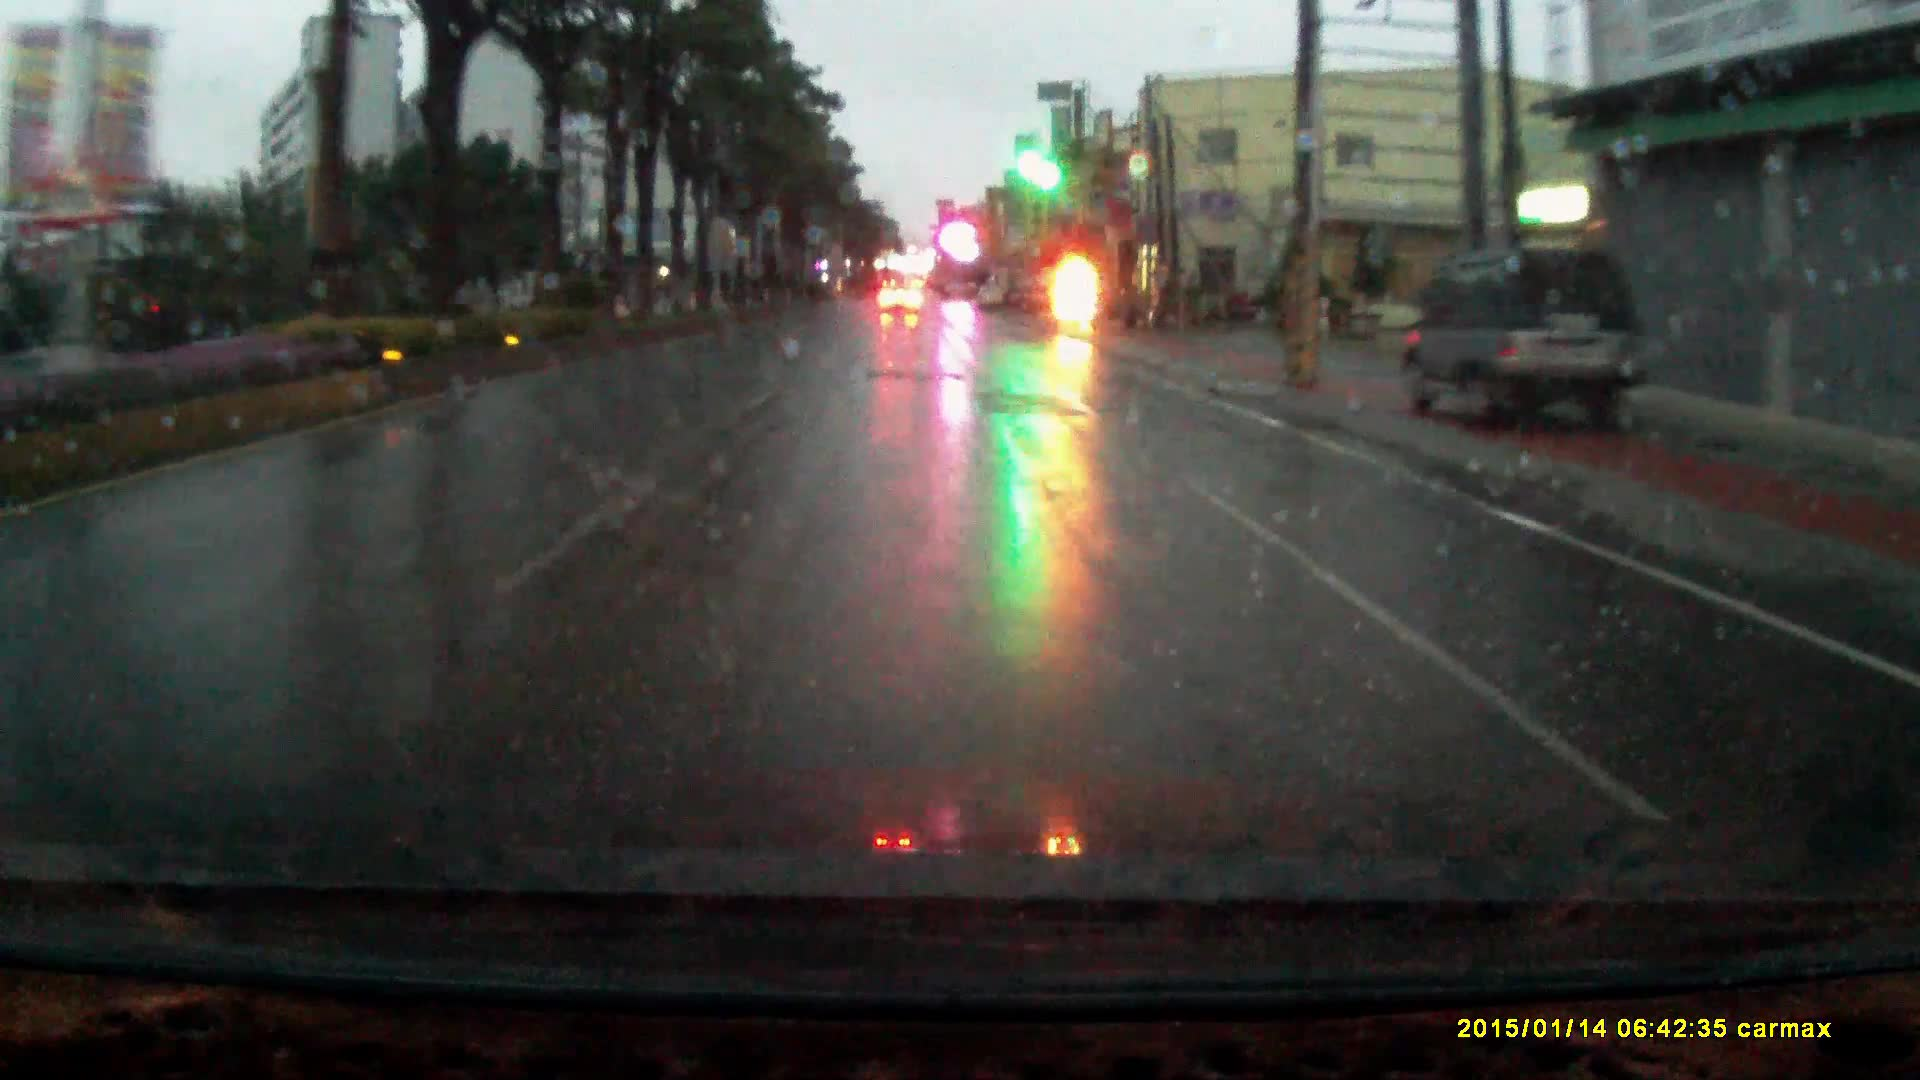vehicle: (1408, 243, 1650, 440), (1007, 291, 1065, 330), (877, 287, 923, 320)
